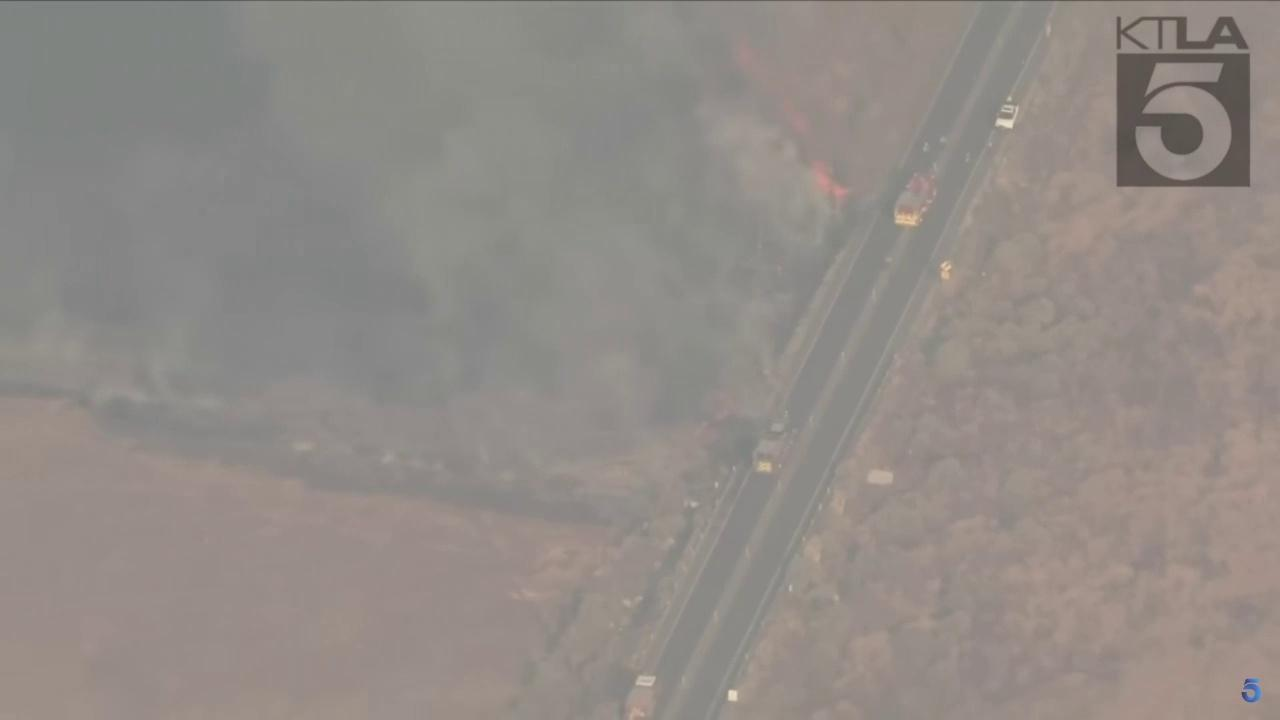fire: (811, 159, 848, 199)
smoke: (0, 0, 852, 472)
